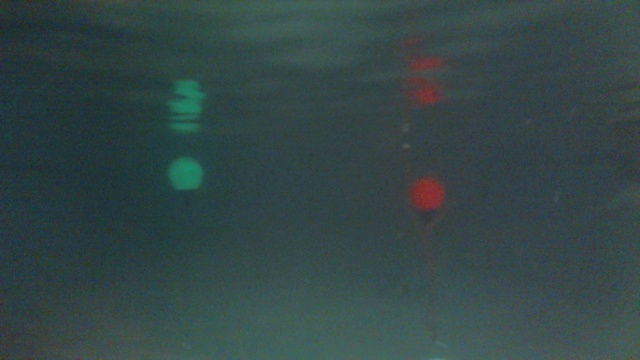buoy_green: (167, 152, 205, 208)
buoy_red: (407, 176, 444, 223)
